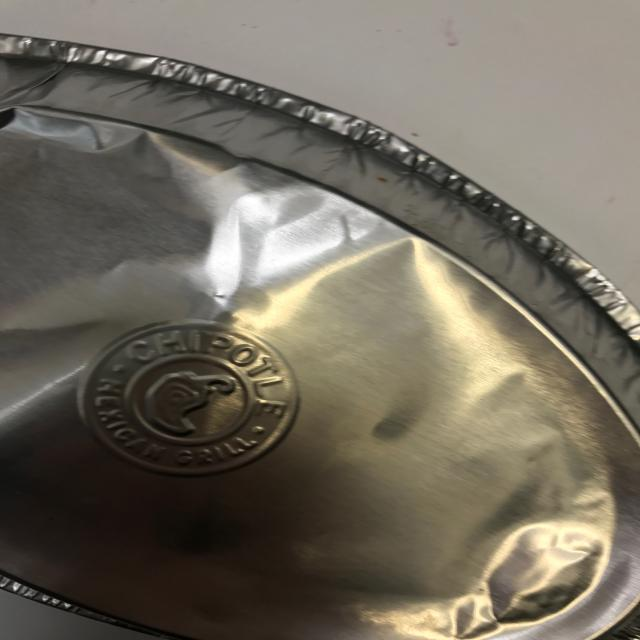metal: (1, 32, 639, 639)
